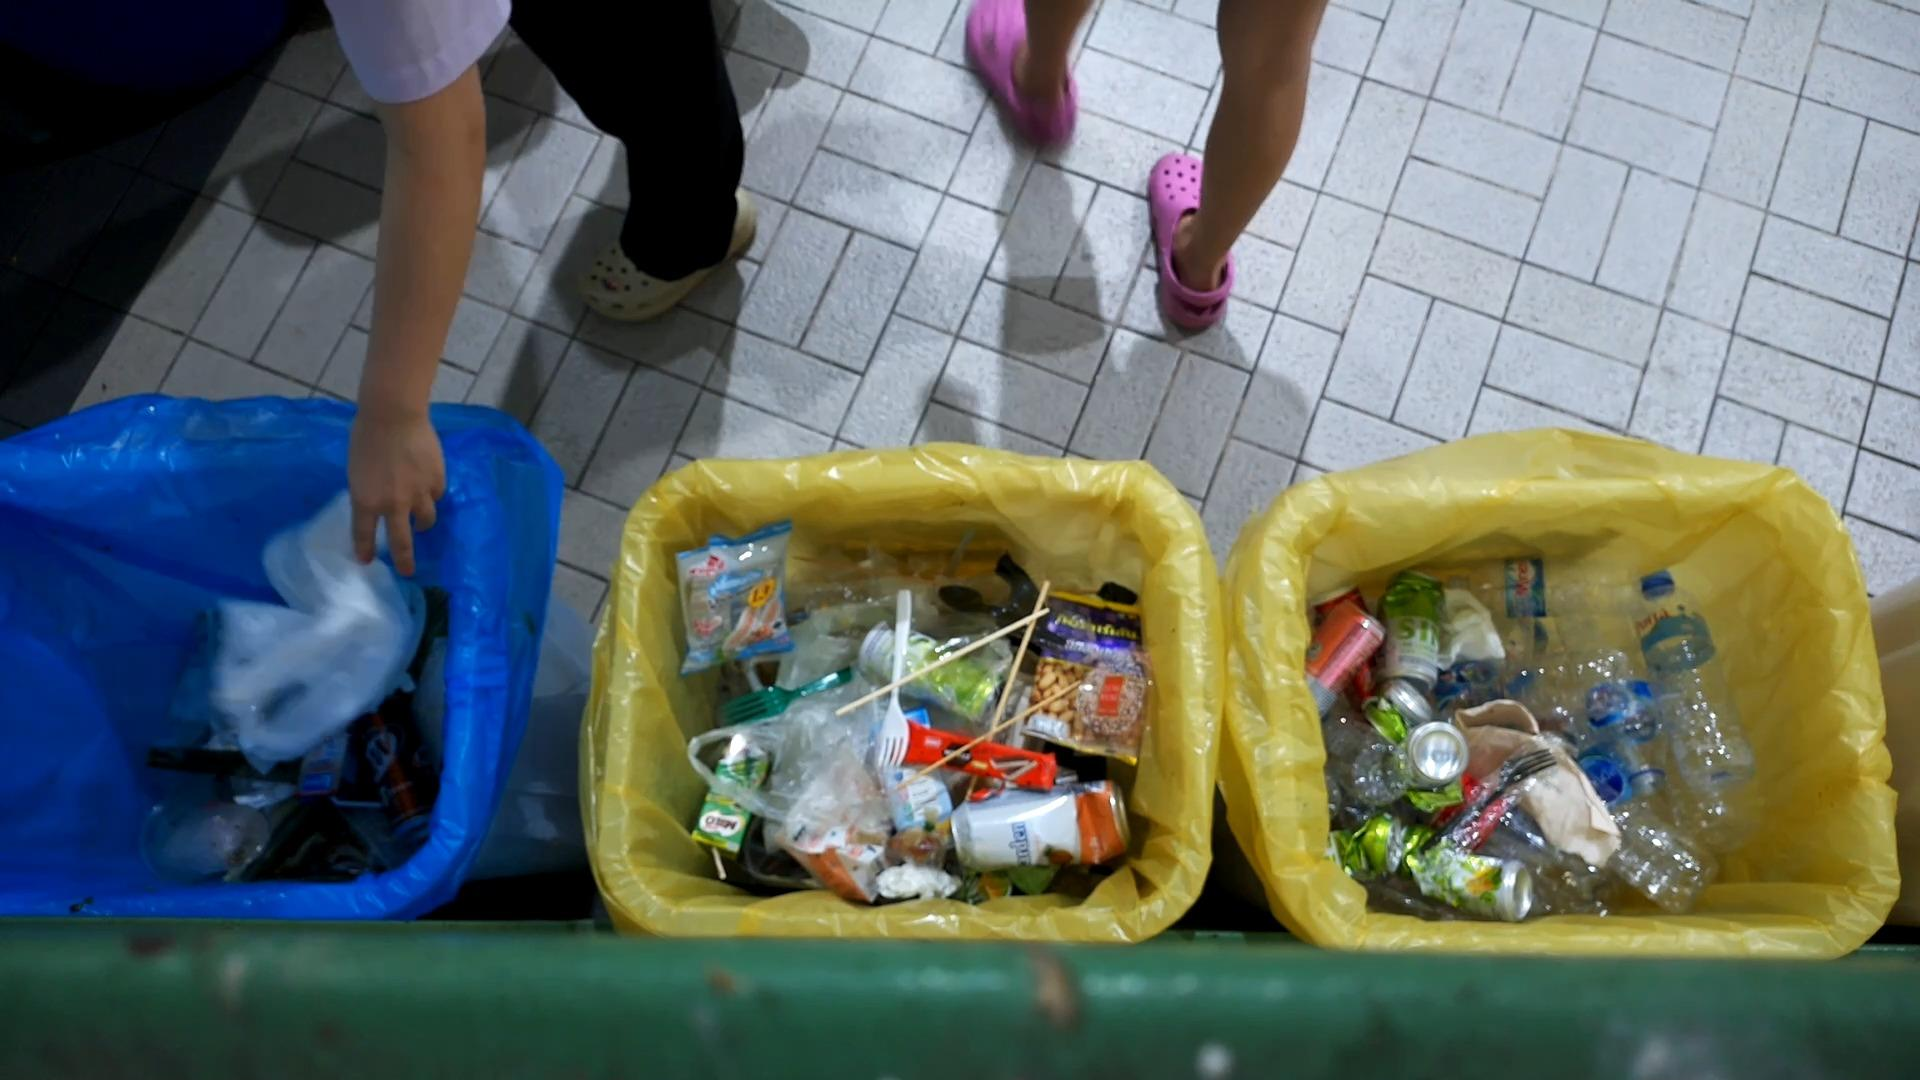can: (945, 777, 1134, 873), (858, 612, 1007, 719), (1403, 819, 1538, 923), (357, 700, 440, 836), (1304, 595, 1383, 727), (1378, 572, 1456, 691), (1398, 716, 1478, 800), (1361, 675, 1433, 750), (1331, 811, 1402, 877)
milk carton: (676, 737, 777, 864), (289, 713, 356, 808)
plastic bag: (202, 484, 427, 770), (712, 599, 902, 858)
plastic bottle: (1547, 571, 1684, 807), (1412, 765, 1613, 918), (1634, 564, 1763, 796), (1418, 555, 1652, 624), (1315, 709, 1419, 810), (872, 603, 922, 796)
plastic cutlery: (709, 661, 853, 732)
snack packaging: (669, 517, 800, 686), (1027, 584, 1147, 769), (897, 715, 1052, 807), (803, 828, 898, 907)
sticks: (881, 666, 1098, 799), (824, 605, 1060, 711), (981, 576, 1056, 742)
tissue paper: (1456, 698, 1636, 886), (1427, 589, 1506, 667), (869, 858, 971, 905)
